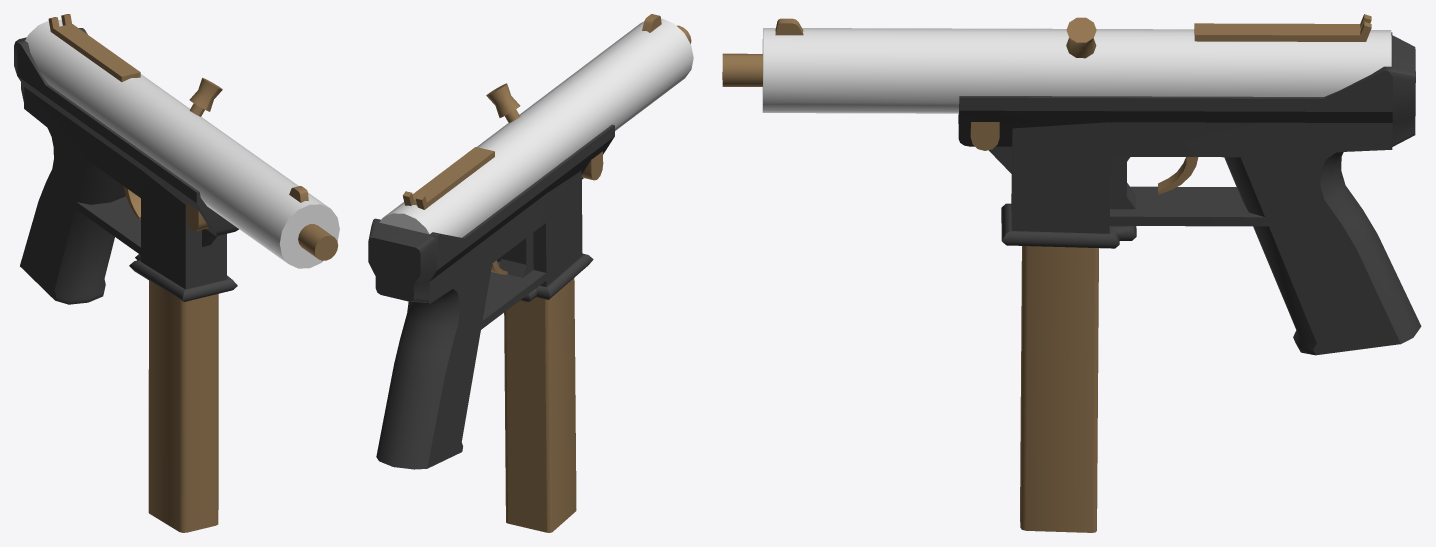
The model's file is Weapon_10.fbx.
3 renders of one model, left to right at view 1: azimuth 30°, elevation 25°; view 2: azimuth 150°, elevation 25°; view 3: azimuth 270°, elevation 25°, orthographic. The views are drawn at different scales.
Visible parts, largest first — view 1: Weapon_10; view 2: Weapon_10; view 3: Weapon_10.
Part boxes in pixels (x1,y1,x2,y2): Weapon_10: (14, 14, 339, 532); Weapon_10: (368, 14, 693, 532); Weapon_10: (722, 14, 1421, 532).
Bounding box in the file's own units: 12.5 × 66.33 × 81.01.
